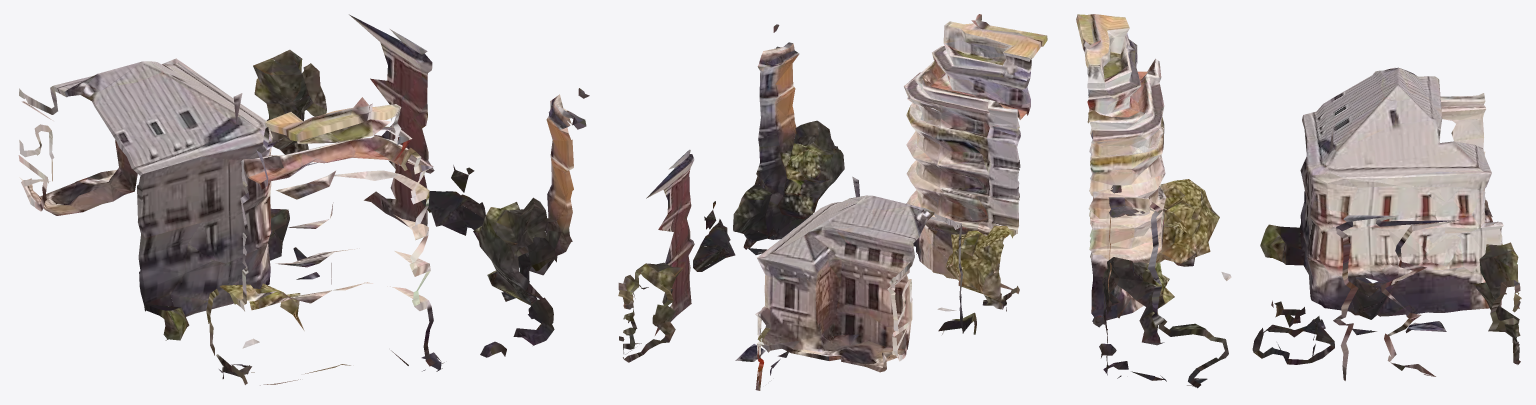
3 views of the same model, side by side, from view 1: azimuth 30°, elevation 25°; view 2: azimuth 150°, elevation 25°; view 3: azimuth 270°, elevation 25° (orthographic). The views are drawn at different scales.
Parts seen in each view (by area): view 1: Mesh_0; view 2: Mesh_0; view 3: Mesh_0.
Boxes of the visible parts, left/top/right/bottom form: Mesh_0: left=18, top=14, right=589, bottom=385; Mesh_0: left=618, top=14, right=1047, bottom=390; Mesh_0: left=1076, top=14, right=1521, bottom=388.
Size of the model in its own units: 34.18 by 26.66 by 41.46.
2 materials, 2 textured.
